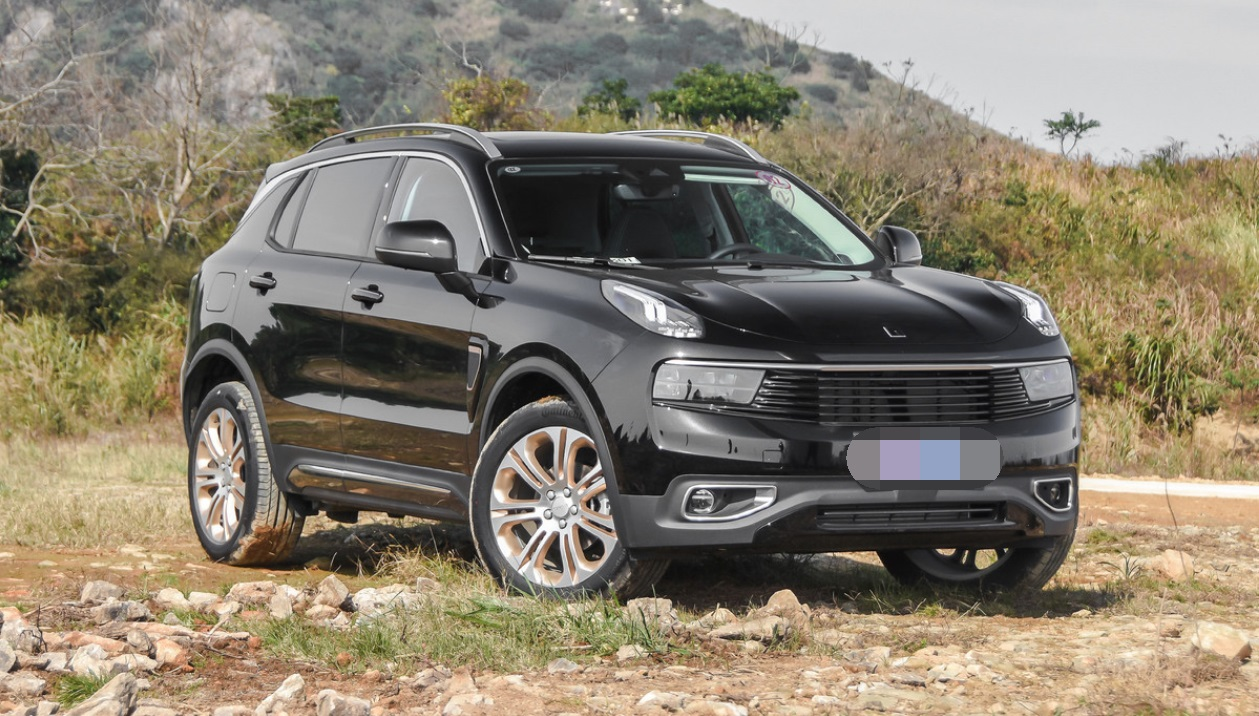SUV: (176, 119, 1086, 606)
